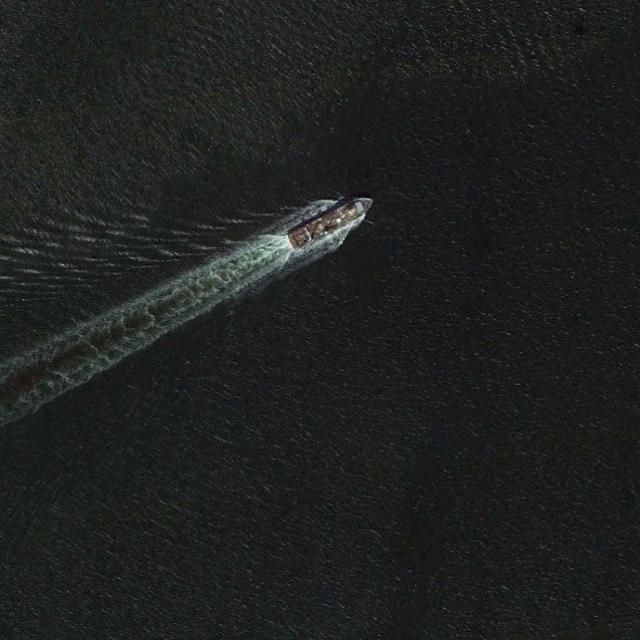ship: (287, 190, 379, 250)
